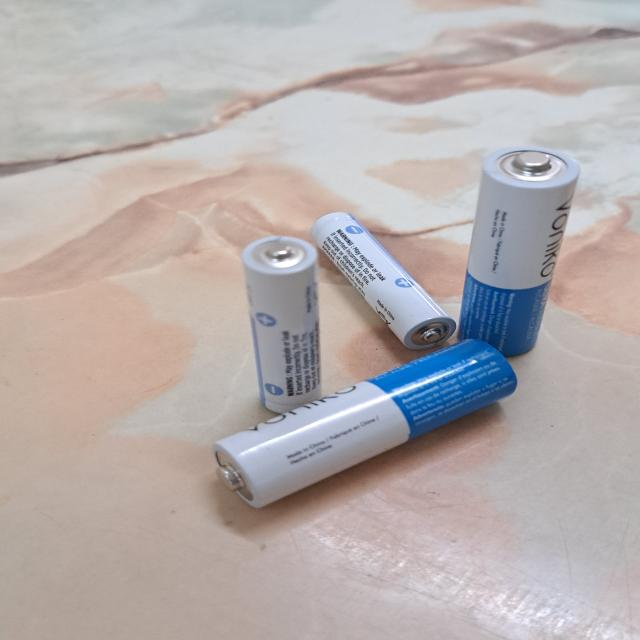battery: (212, 338, 518, 509), (459, 144, 577, 357), (310, 210, 458, 350), (244, 235, 326, 412)
